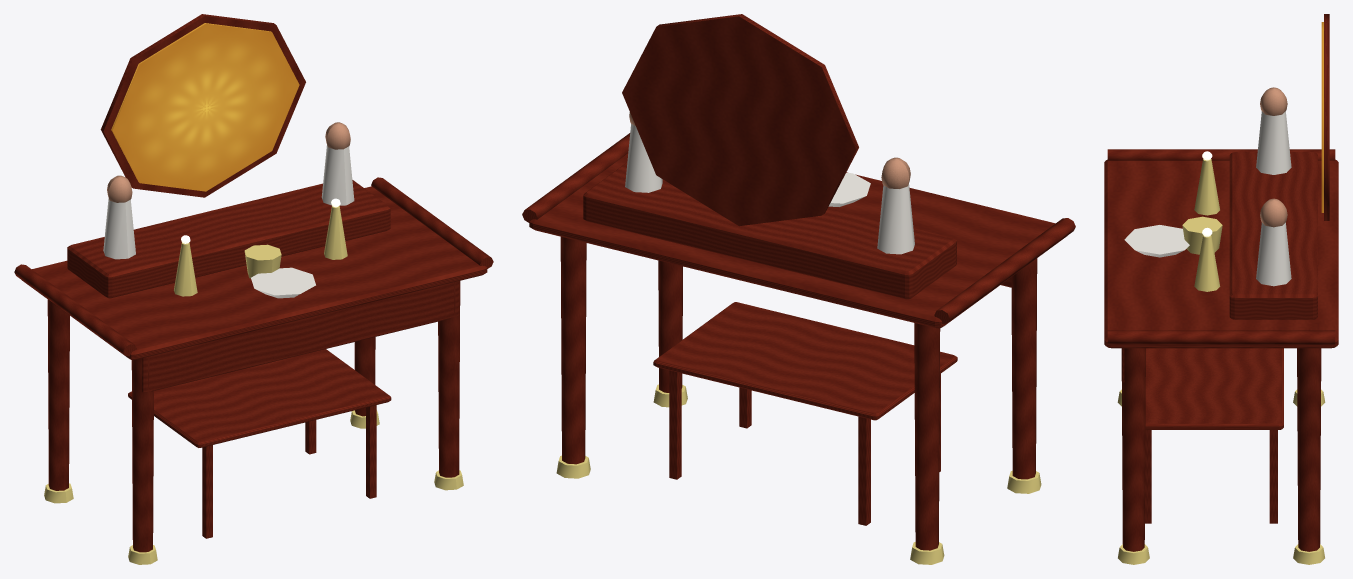
Rendered from vietnamese_worship_altar.glb.
3 renders of one model, left to right at view 1: azimuth 30°, elevation 25°; view 2: azimuth 150°, elevation 25°; view 3: azimuth 270°, elevation 25°, orthographic. The views are drawn at different scales.
Parts seen in each view (by area): view 1: vietnamese_worship_altar_woodMahogany, vietnamese_worship_altar_emissiveGoldMandala, vietnamese_worship_altar_ceramicVase, vietnamese_worship_altar_metalBrass, vietnamese_worship_altar_pillowTerra; view 2: vietnamese_worship_altar_woodMahogany, vietnamese_worship_altar_ceramicVase, vietnamese_worship_altar_metalBrass, vietnamese_worship_altar_pillowTerra; view 3: vietnamese_worship_altar_woodMahogany, vietnamese_worship_altar_ceramicVase, vietnamese_worship_altar_metalBrass, vietnamese_worship_altar_pillowTerra, vietnamese_worship_altar_emissiveGoldMandala.
Part boxes in pixels (x1=…): vietnamese_worship_altar_woodMahogany: x1=14, y1=14, x2=493, y2=552; vietnamese_worship_altar_emissiveGoldMandala: x1=111, y1=23, x2=299, y2=191; vietnamese_worship_altar_ceramicVase: x1=103, y1=145, x2=354, y2=298; vietnamese_worship_altar_metalBrass: x1=44, y1=206, x2=463, y2=564; vietnamese_worship_altar_pillowTerra: x1=107, y1=122, x2=350, y2=202; vietnamese_worship_altar_woodMahogany: x1=522, y1=14, x2=1075, y2=550; vietnamese_worship_altar_ceramicVase: x1=625, y1=124, x2=914, y2=254; vietnamese_worship_altar_metalBrass: x1=556, y1=384, x2=1041, y2=564; vietnamese_worship_altar_pillowTerra: x1=629, y1=112, x2=910, y2=188; vietnamese_worship_altar_woodMahogany: x1=1104, y1=14, x2=1338, y2=551; vietnamese_worship_altar_ceramicVase: x1=1124, y1=111, x2=1291, y2=286; vietnamese_worship_altar_metalBrass: x1=1117, y1=159, x2=1325, y2=564; vietnamese_worship_altar_pillowTerra: x1=1260, y1=87, x2=1287, y2=227; vietnamese_worship_altar_emissiveGoldMandala: x1=1321, y1=22, x2=1323, y2=212.
Size of what is drawn, in the model's own units: 1.75 by 1.98 by 0.92.
Materials: 6 (3 with a texture image).
